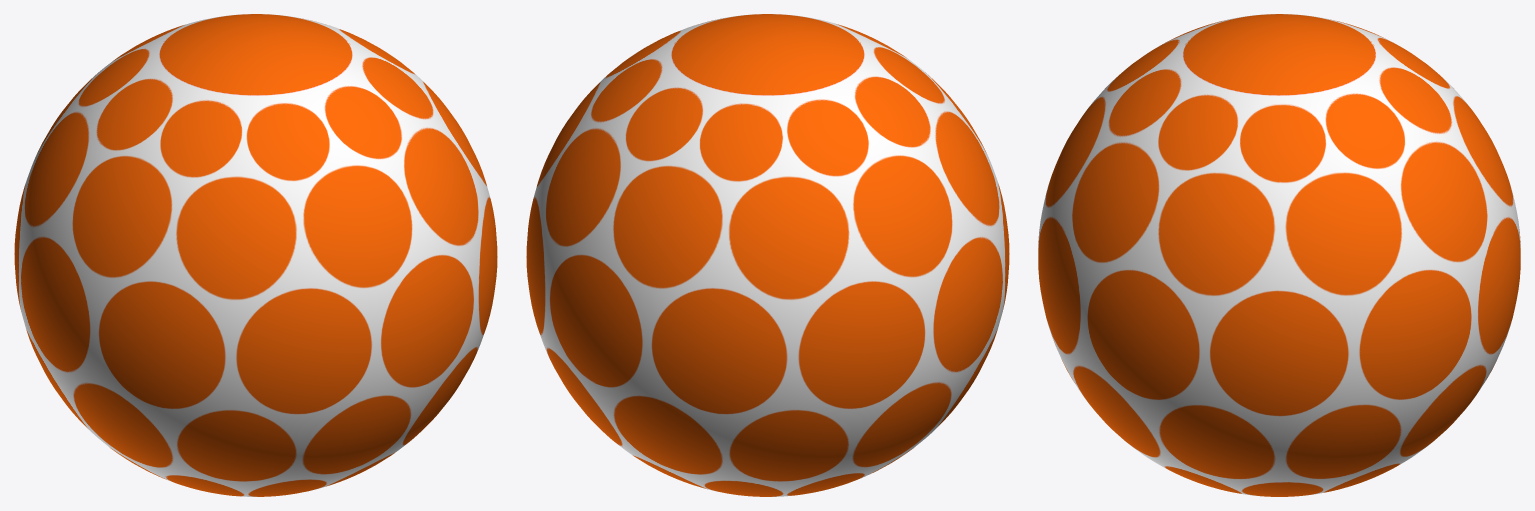
The model's file is icon_sampleapp.fbx.
3 renders of one model, left to right at view 1: azimuth 30°, elevation 25°; view 2: azimuth 150°, elevation 25°; view 3: azimuth 270°, elevation 25°, orthographic.
Visible parts, largest first — view 1: sample_sphere; view 2: sample_sphere; view 3: sample_sphere.
Part boxes in pixels (bbox=[...]): sample_sphere: bbox=[14, 14, 497, 496]; sample_sphere: bbox=[526, 14, 1009, 496]; sample_sphere: bbox=[1038, 14, 1520, 496].
Size of the model in its own units: 4 by 4 by 4.
Materials: 1 (1 with a texture image).
